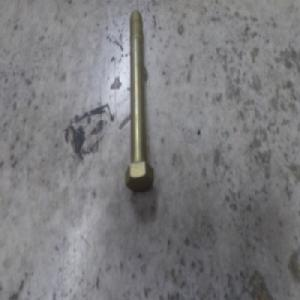Bolt: (125, 14, 154, 196)
